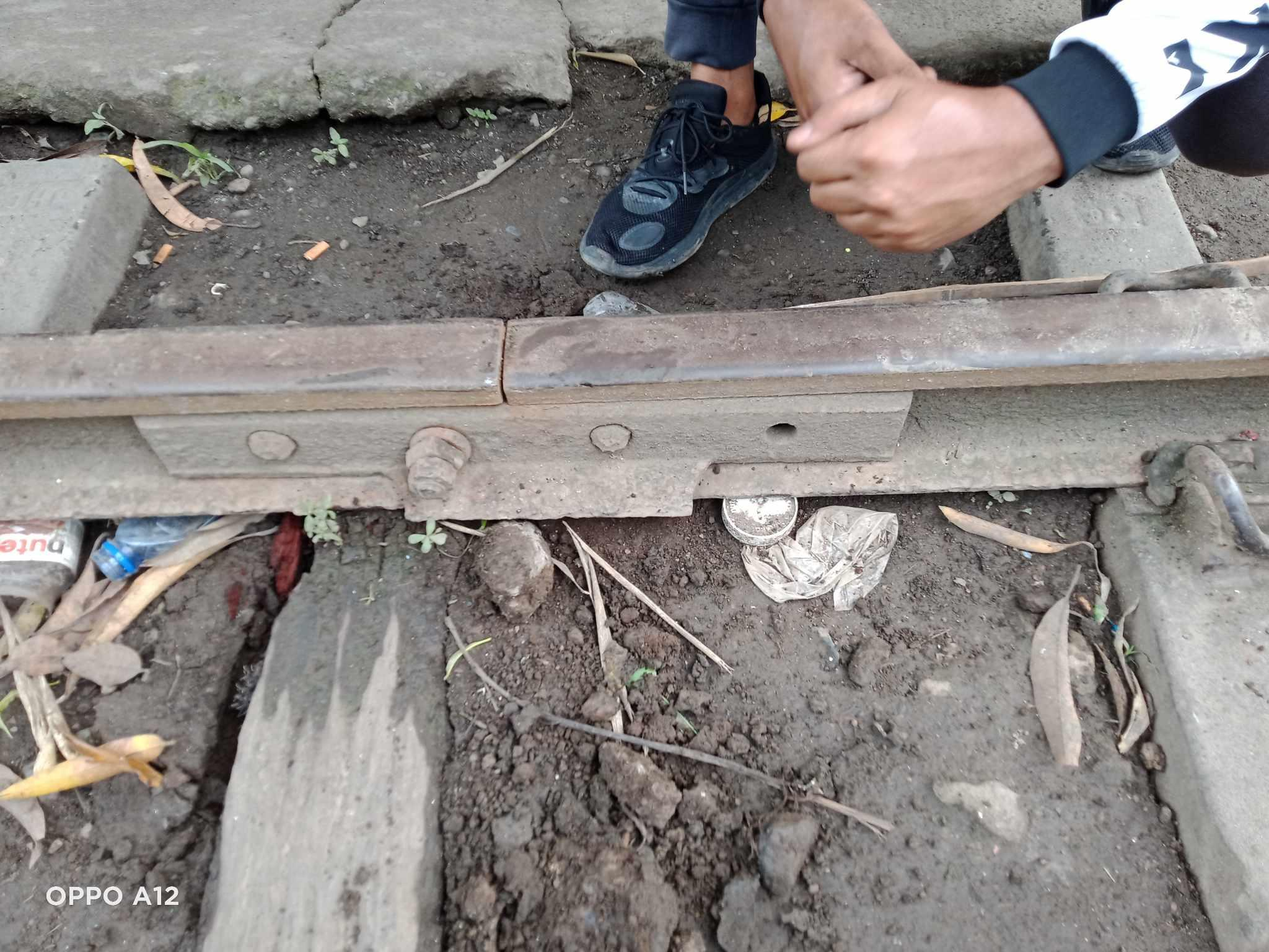railway-gap: (433, 283, 568, 436)
